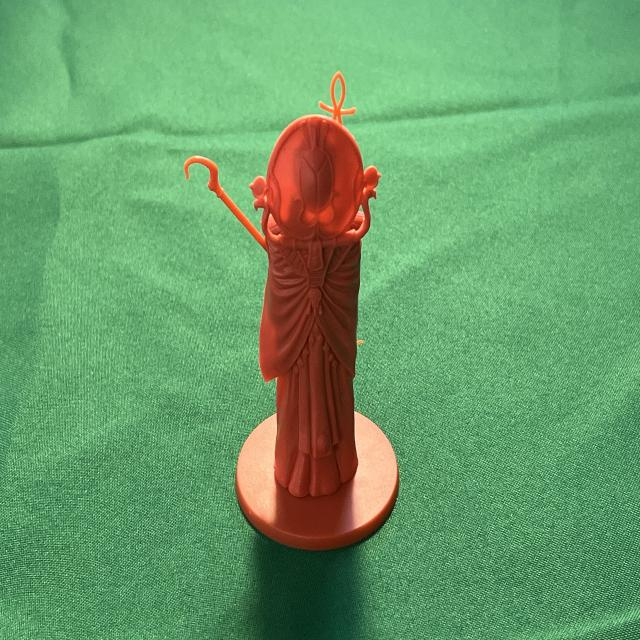amon: (183, 62, 404, 558)
